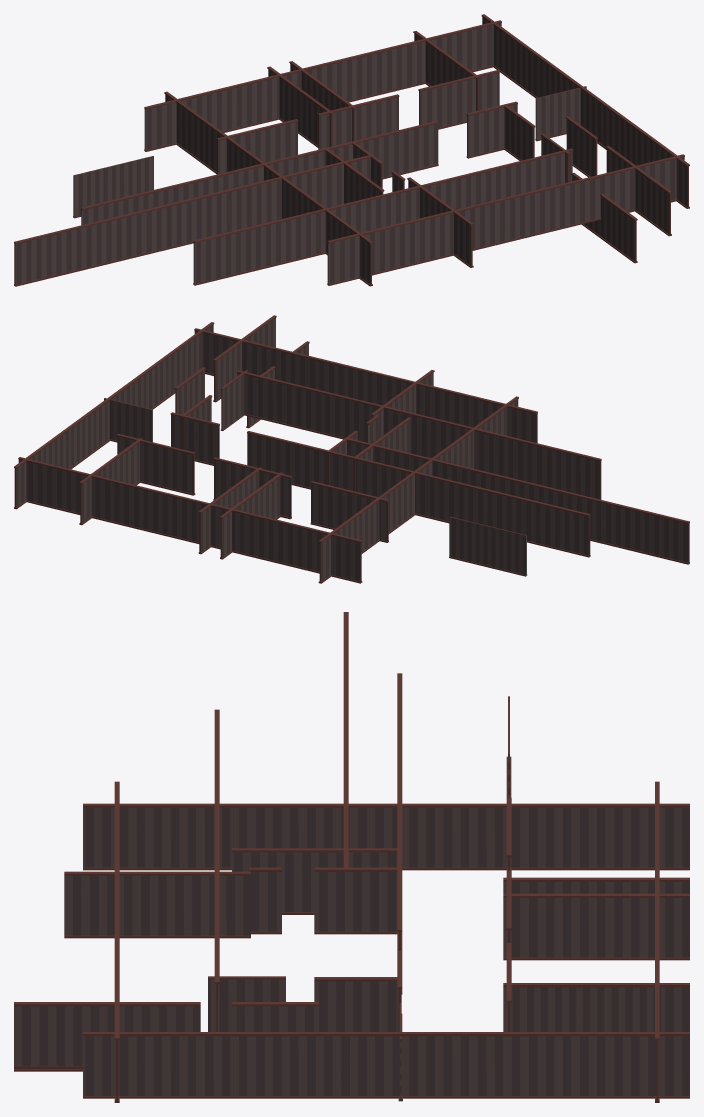
Rendered from wall5.glb.
3 renders of one model, top to bottom at view 1: azimuth 30°, elevation 25°; view 2: azimuth 150°, elevation 25°; view 3: azimuth 270°, elevation 25°, orthographic. The views are drawn at different scales.
Parts seen in each view (by area): view 1: Cube.024, Cube.002, Cube.005, Cube.019, Cube.004, Cube.001, Cube.003, Cube.028, Cube.018, Cube.007, Cube.027, Cube.023 (+12 smaller); view 2: Cube.019, Cube.005, Cube.004, Cube.002, Cube.024, Cube.001, Cube.003, Cube.018, Cube.028, Cube.027, Cube.008, Cube.011 (+10 smaller); view 3: Cube.001, Cube.003, Cube.014, Cube.012, Cube.023, Cube.010, Cube.013, Cube.015, Cube.009, Cube.011, Cube.025, Cube.021 (+7 smaller).
Boxes of the visible parts, box(x1,y1,x2,y2) form: Cube.024: box(14, 155, 371, 286); Cube.002: box(327, 154, 684, 285); Cube.005: box(193, 148, 573, 285); Cube.019: box(144, 20, 501, 151); Cube.004: box(81, 121, 438, 225); Cube.001: box(481, 14, 689, 208); Cube.003: box(164, 91, 372, 286); Cube.028: box(418, 69, 499, 129); Cube.018: box(73, 156, 153, 218); Cube.007: box(317, 94, 399, 149); Cube.027: box(216, 119, 298, 174); Cube.023: box(605, 145, 671, 236); Cube.019: box(18, 457, 362, 583); Cube.005: box(236, 370, 601, 499); Cube.004: box(247, 431, 590, 557); Cube.002: box(194, 328, 537, 443); Cube.024: box(346, 438, 689, 564); Cube.001: box(14, 322, 214, 509); Cube.003: box(318, 396, 518, 583); Cube.018: box(449, 516, 527, 576); Cube.028: box(116, 434, 195, 495); Cube.027: box(310, 481, 388, 542); Cube.008: box(170, 412, 219, 465); Cube.011: box(220, 472, 283, 559); Cube.001: box(83, 1032, 689, 1098); Cube.003: box(83, 803, 689, 870); Cube.014: box(503, 893, 689, 960); Cube.012: box(64, 871, 250, 938); Cube.023: box(14, 1002, 200, 1068); Cube.010: box(511, 987, 661, 1031); Cube.013: box(314, 867, 401, 934); Cube.015: box(232, 848, 397, 914); Cube.009: box(314, 977, 401, 1031); Cube.011: box(503, 877, 689, 893); Cube.025: box(231, 1002, 318, 1031); Cube.021: box(208, 976, 285, 1031).
Size of the model in its own units: 8.99 by 0.9067 by 6.03.
Materials: 26 (26 with a texture image).
